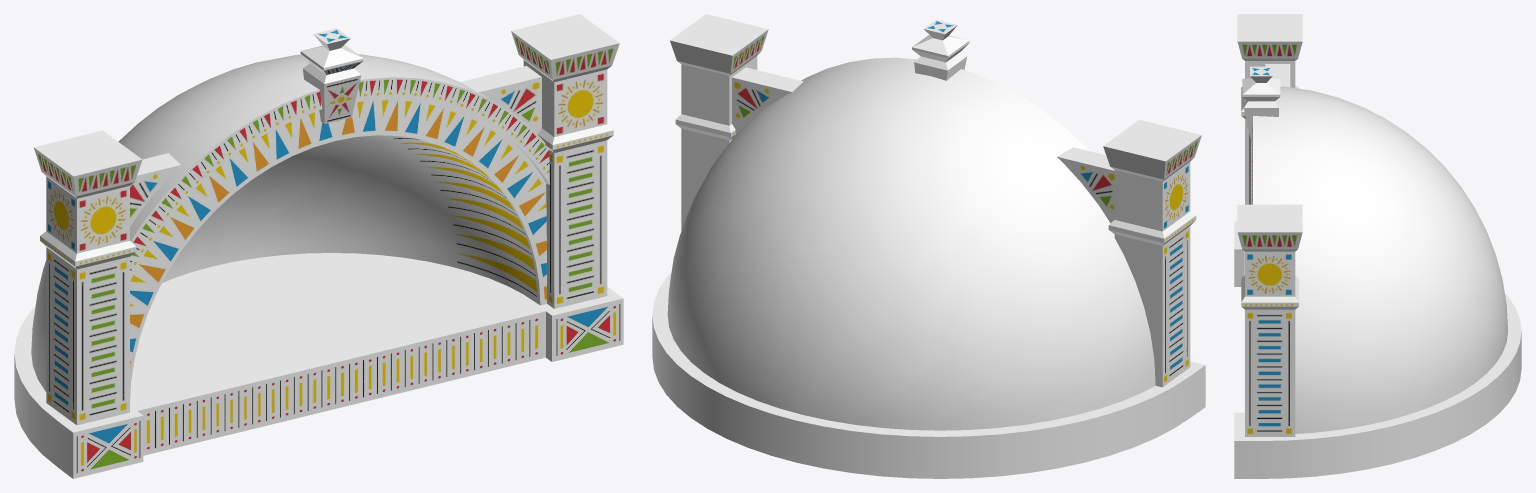
File: band-shell.glb
3 renders of one model, left to right at view 1: azimuth 30°, elevation 25°; view 2: azimuth 150°, elevation 25°; view 3: azimuth 270°, elevation 25°, orthographic. The views are drawn at different scales.
Parts seen in each view (by area): view 1: Object_2; view 2: Object_2; view 3: Object_2.
Part boxes in pixels (x1=…): Object_2: x1=14, y1=14, x2=623, y2=478; Object_2: x1=652, y1=14, x2=1205, y2=478; Object_2: x1=1234, y1=14, x2=1521, y2=478.
Bounding box in the file's own units: 10 × 6.31 × 5.52.
Materials: 1 (1 with a texture image).
